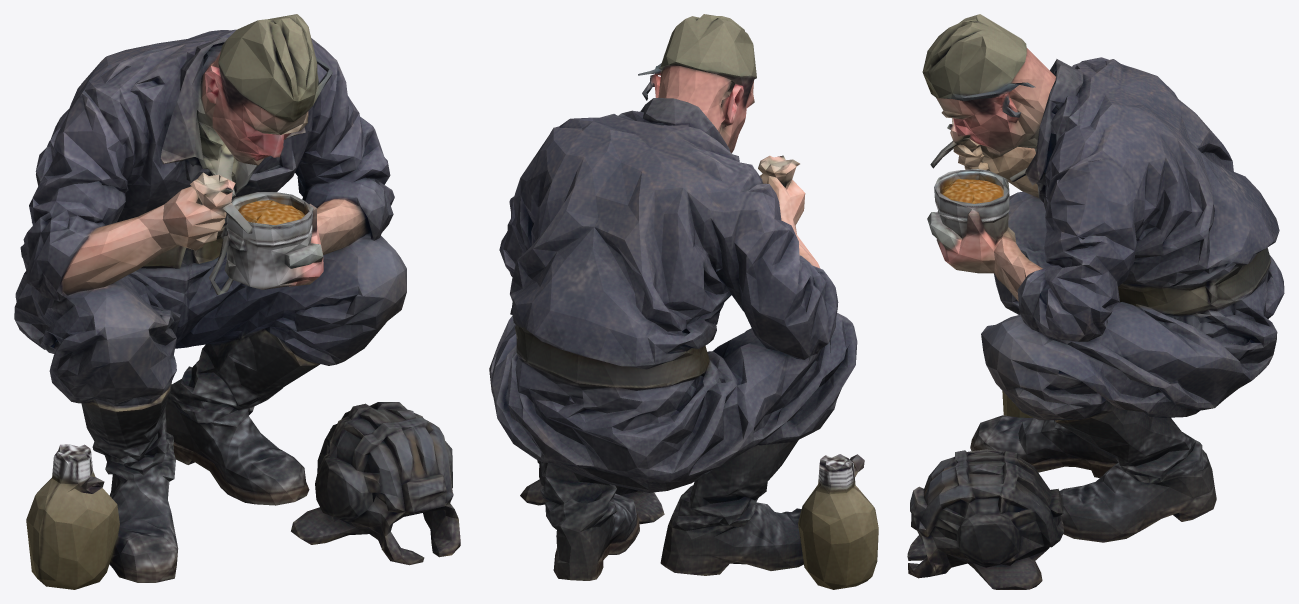
The model's file is crew_su_mess.obj.
3 renders of one model, left to right at view 1: azimuth 30°, elevation 25°; view 2: azimuth 150°, elevation 25°; view 3: azimuth 270°, elevation 25°, orthographic. The views are drawn at different scales.
Visible parts, largest first — view 1: crew_su_mess; view 2: crew_su_mess; view 3: crew_su_mess.
Part boxes in pixels (<box>): crew_su_mess: <box>14,14,460,589</box>; crew_su_mess: <box>489,14,878,589</box>; crew_su_mess: <box>907,14,1284,589</box>.
Bounding box in the file's own units: 0.8604 × 1.15 × 0.7972.
Materials: 1 (1 with a texture image).
